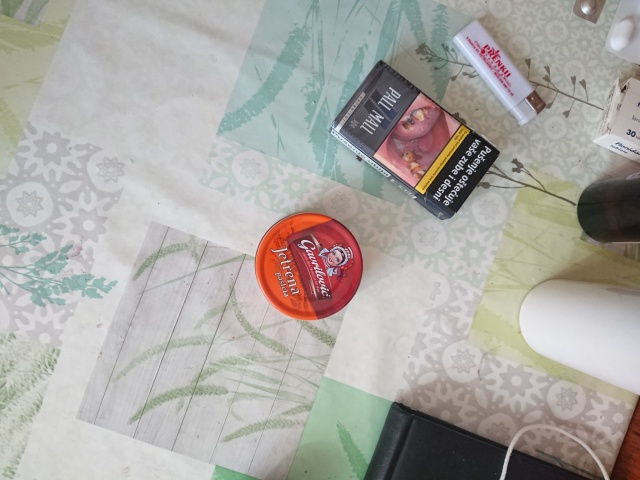Gavrilovic Pork Liver Pate 100g: (250, 209, 367, 322)
